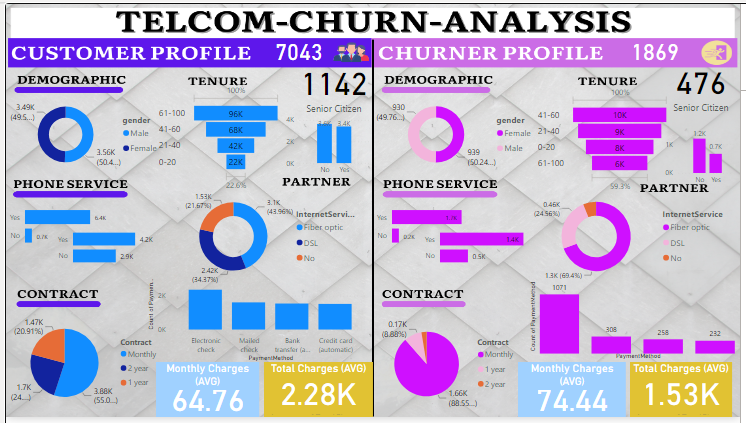

Layout of this report page (visuals, bound fields, positions):
{"tool":"powerbi","page":{"name":"Page 1","canvas":[1280,720],"ordinal":0},"visuals":[{"type":"pieChart","fields":{"Category":["Telco-Customer-Churn.Contract"],"Y":["CountNonNull(Telco-Customer-Churn.Contract)"]},"box":[0,531.9,277.3,188.3],"z":0},{"type":"donutChart","fields":{"Category":["Telco-Customer-Churn.gender"],"Y":["CountNonNull(Telco-Customer-Churn.gender)"]},"box":[0,156.2,277.2,141.1],"z":1000},{"type":"funnel","fields":{"Category":["Telco-Customer-Churn.tenure (bins)"],"Y":["Sum(Telco-Customer-Churn.tenure)"]},"box":[262,134.4,221.7,196.5],"z":2000},{"type":"columnChart","fields":{"Category":["Telco-Customer-Churn.Partner"],"Y":["CountNonNull(Telco-Customer-Churn.Partner)"]},"box":[483.8,188.1,156.2,119.3],"z":3000},{"type":"barChart","fields":{"Category":["Telco-Customer-Churn.PhoneService"],"Y":["CountNonNull(Telco-Customer-Churn.PhoneService)"]},"box":[0,317.4,181.4,134.3],"z":4000},{"type":"donutChart","fields":{"Category":["Telco-Customer-Churn.InternetService"],"Y":["CountNonNull(Telco-Customer-Churn.InternetService)"]},"box":[282.5,317.4,333.1,176.1],"z":5000},{"type":"barChart","fields":{"Category":["Telco-Customer-Churn.PaperlessBilling"],"Y":["CountNonNull(Telco-Customer-Churn.PaperlessBilling)"]},"box":[83.7,359.2,193.6,123.8],"z":6000},{"type":"clusteredColumnChart","fields":{"Category":["Telco-Customer-Churn.PaymentMethod"],"Y":["CountNonNull(Telco-Customer-Churn.PaymentMethod)"]},"box":[242.4,465.6,397.6,162.2],"z":7000},{"type":"card","title":"Total Charges (AVG)","fields":{"Values":["Avg(Telco-Customer-Churn.TotalCharges)"]},"box":[449.9,624.3,177.9,95.9],"z":8000},{"type":"card","fields":{"Values":["Sum(Telco-Customer-Churn.SeniorCitizen)"]},"box":[504,90.7,136,104.6],"z":9000},{"type":"funnel","fields":{"Category":["Telco-Customer-Churn.tenure (bins)"],"Y":["Sum(Telco-Customer-Churn.tenure)"]},"box":[922.5,137.8,238.9,195.3],"z":10000},{"type":"card","fields":{"Values":["CountNonNull(Telco-Customer-Churn.Dependents)"]},"box":[449.9,64.5,122.1,50.6],"z":11000},{"type":"card","fields":{"Values":["CountNonNull(Telco-Customer-Churn.Dependents)"]},"box":[1070.7,64.5,122.1,50.6],"z":12000},{"type":"card","fields":{"Values":["Sum(Telco-Customer-Churn.SeniorCitizen)"]},"box":[1144,90.7,136,102.9],"z":13000},{"type":"donutChart","fields":{"Category":["Telco-Customer-Churn.gender"],"Y":["CountNonNull(Telco-Customer-Churn.gender)"]},"box":[640,156.9,289.5,141.3],"z":14000},{"type":"columnChart","fields":{"Category":["Telco-Customer-Churn.Partner"],"Y":["CountNonNull(Telco-Customer-Churn.Partner)"]},"box":[1144,205.8,136,118.6],"z":15000},{"type":"barChart","fields":{"Category":["Telco-Customer-Churn.PhoneService"],"Y":["CountNonNull(Telco-Customer-Churn.PhoneService)"]},"box":[640,317.4,181.4,134.3],"z":16000},{"type":"barChart","fields":{"Category":["Telco-Customer-Churn.PaperlessBilling"],"Y":["CountNonNull(Telco-Customer-Churn.PaperlessBilling)"]},"box":[723.7,359.2,193.6,123.8],"z":17000},{"type":"donutChart","fields":{"Category":["Telco-Customer-Churn.InternetService"],"Y":["CountNonNull(Telco-Customer-Churn.InternetService)"]},"box":[908.6,317.4,357.5,176.1],"z":18000},{"type":"pieChart","fields":{"Category":["Telco-Customer-Churn.Contract"],"Y":["CountNonNull(Telco-Customer-Churn.Contract)"]},"box":[640,535.4,259.8,184.9],"z":19000},{"type":"clusteredColumnChart","fields":{"Category":["Telco-Customer-Churn.PaymentMethod"],"Y":["CountNonNull(Telco-Customer-Churn.PaymentMethod)"]},"box":[908.6,465.6,371.4,158.7],"z":20000},{"type":"card","title":"Monthly Charges (AVG)","fields":{"Values":["Avg(Telco-Customer-Churn.MonthlyCharges)"]},"box":[899.8,624.3,170.9,95.9],"z":21000},{"type":"card","title":"Monthly Charges (AVG)","fields":{"Values":["Avg(Telco-Customer-Churn.MonthlyCharges)"]},"box":[270.3,624.3,170.9,95.9],"z":22000},{"type":"card","title":"Total Charges (AVG)","fields":{"Values":["Avg(Telco-Customer-Churn.TotalCharges)"]},"box":[1082.9,624.3,177.9,95.9],"z":23000}]}

Visuals, with their boxes in screenshot pixels (x1, y1, x2, y2), scaled from the page's 1280x720 canvas onto the 746x423 screenshot:
pieChart - Telco-Customer-Churn.Contract x CountNonNull(Telco-Customer-Churn.Contract): 0,312,162,422
donutChart - Telco-Customer-Churn.gender x CountNonNull(Telco-Customer-Churn.gender): 0,92,162,175
funnel - Telco-Customer-Churn.tenure (bins) x Sum(Telco-Customer-Churn.tenure): 153,79,282,194
columnChart - Telco-Customer-Churn.Partner x CountNonNull(Telco-Customer-Churn.Partner): 282,111,373,181
barChart - Telco-Customer-Churn.PhoneService x CountNonNull(Telco-Customer-Churn.PhoneService): 0,186,106,265
donutChart - Telco-Customer-Churn.InternetService x CountNonNull(Telco-Customer-Churn.InternetService): 165,186,359,290
barChart - Telco-Customer-Churn.PaperlessBilling x CountNonNull(Telco-Customer-Churn.PaperlessBilling): 49,211,162,284
clusteredColumnChart - Telco-Customer-Churn.PaymentMethod x CountNonNull(Telco-Customer-Churn.PaymentMethod): 141,274,373,369
"Total Charges (AVG)" card: 262,367,366,422
card - Sum(Telco-Customer-Churn.SeniorCitizen): 294,53,373,115
funnel - Telco-Customer-Churn.tenure (bins) x Sum(Telco-Customer-Churn.tenure): 538,81,677,196
card - CountNonNull(Telco-Customer-Churn.Dependents): 262,38,333,68
card - CountNonNull(Telco-Customer-Churn.Dependents): 624,38,695,68
card - Sum(Telco-Customer-Churn.SeniorCitizen): 667,53,745,114
donutChart - Telco-Customer-Churn.gender x CountNonNull(Telco-Customer-Churn.gender): 373,92,542,175
columnChart - Telco-Customer-Churn.Partner x CountNonNull(Telco-Customer-Churn.Partner): 667,121,745,191
barChart - Telco-Customer-Churn.PhoneService x CountNonNull(Telco-Customer-Churn.PhoneService): 373,186,479,265
barChart - Telco-Customer-Churn.PaperlessBilling x CountNonNull(Telco-Customer-Churn.PaperlessBilling): 422,211,535,284
donutChart - Telco-Customer-Churn.InternetService x CountNonNull(Telco-Customer-Churn.InternetService): 530,186,738,290
pieChart - Telco-Customer-Churn.Contract x CountNonNull(Telco-Customer-Churn.Contract): 373,315,524,422
clusteredColumnChart - Telco-Customer-Churn.PaymentMethod x CountNonNull(Telco-Customer-Churn.PaymentMethod): 530,274,745,367
"Monthly Charges (AVG)" card: 524,367,624,422
"Monthly Charges (AVG)" card: 158,367,257,422
"Total Charges (AVG)" card: 631,367,735,422
